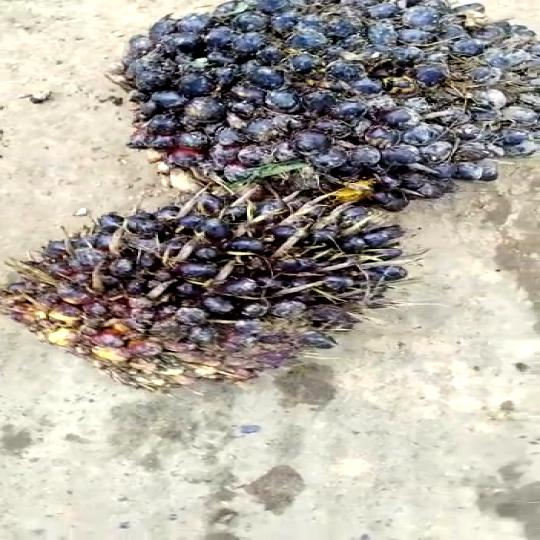mentah: (90, 0, 540, 206), (13, 197, 409, 394)
